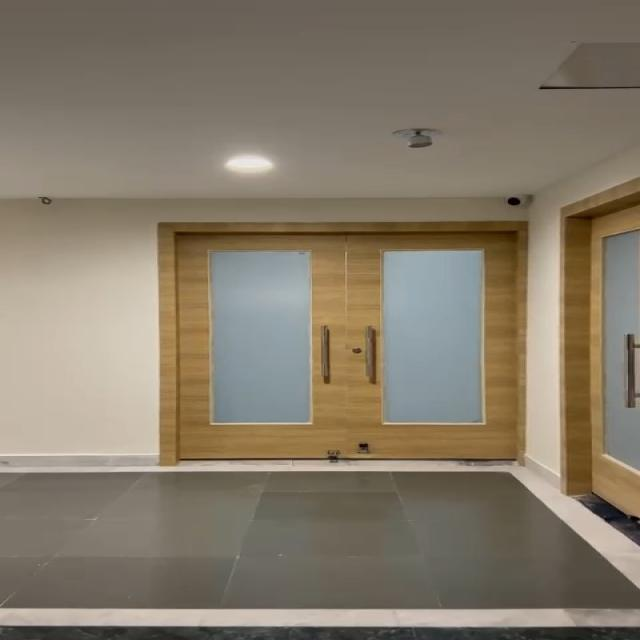door: (152, 216, 522, 461), (576, 205, 640, 503)
floor: (0, 474, 599, 640)
wall: (0, 199, 146, 451)
